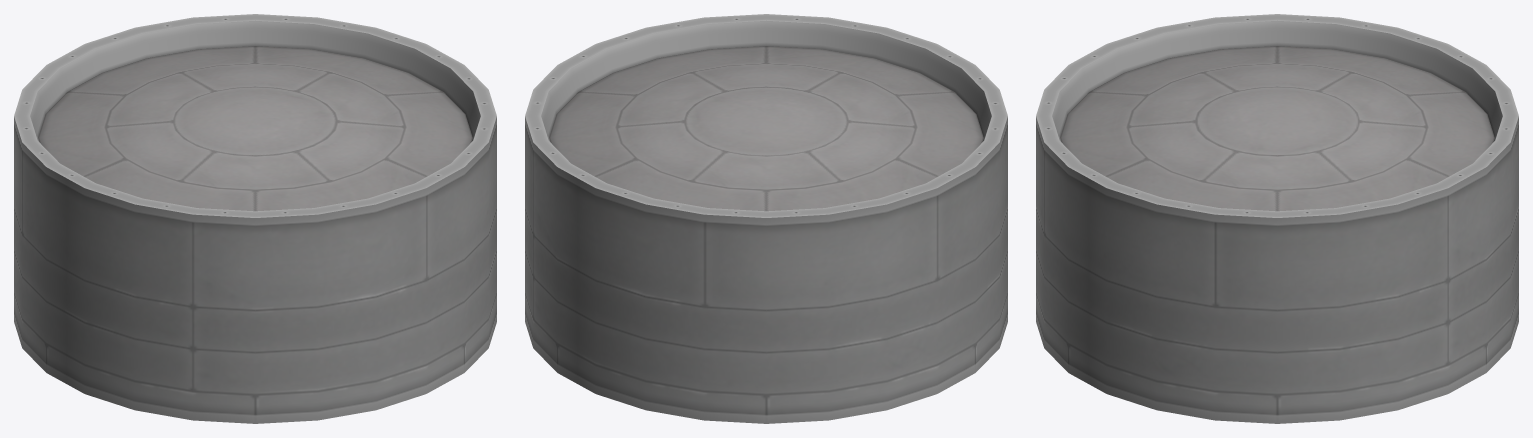
The model's file is LLV_G_LFO_3.obj.
3 renders of one model, left to right at view 1: azimuth 30°, elevation 25°; view 2: azimuth 150°, elevation 25°; view 3: azimuth 270°, elevation 25°, orthographic.
Visible parts, largest first — view 1: LLV_G_LFO_3; view 2: LLV_G_LFO_3; view 3: LLV_G_LFO_3.
Boxes of the visible parts, x1,y1,x2,y2 form: LLV_G_LFO_3: (14,14,496,423); LLV_G_LFO_3: (525,14,1007,423); LLV_G_LFO_3: (1036,14,1518,423).
Bounding box in the file's own units: 1.88 × 0.8819 × 1.88.
